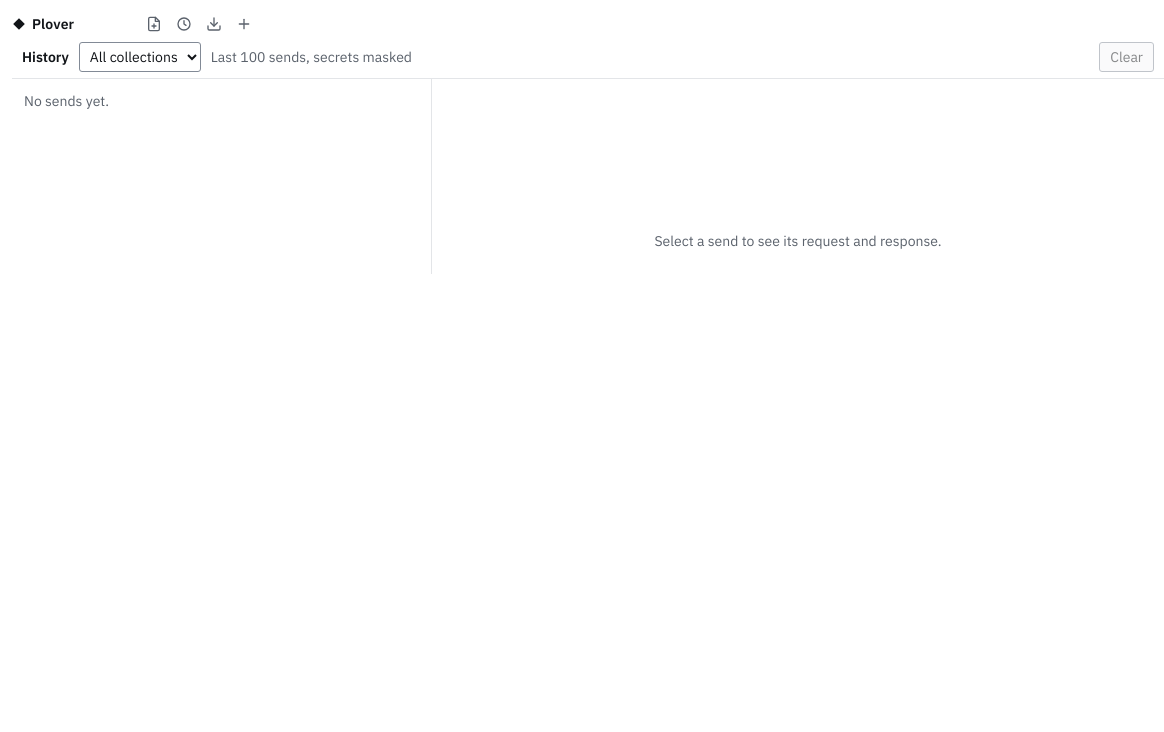
it: history tab › open_as_new_request_creates_scratch_with_banner
Click the button named "History": (184,24) [172, 12, 196, 36]
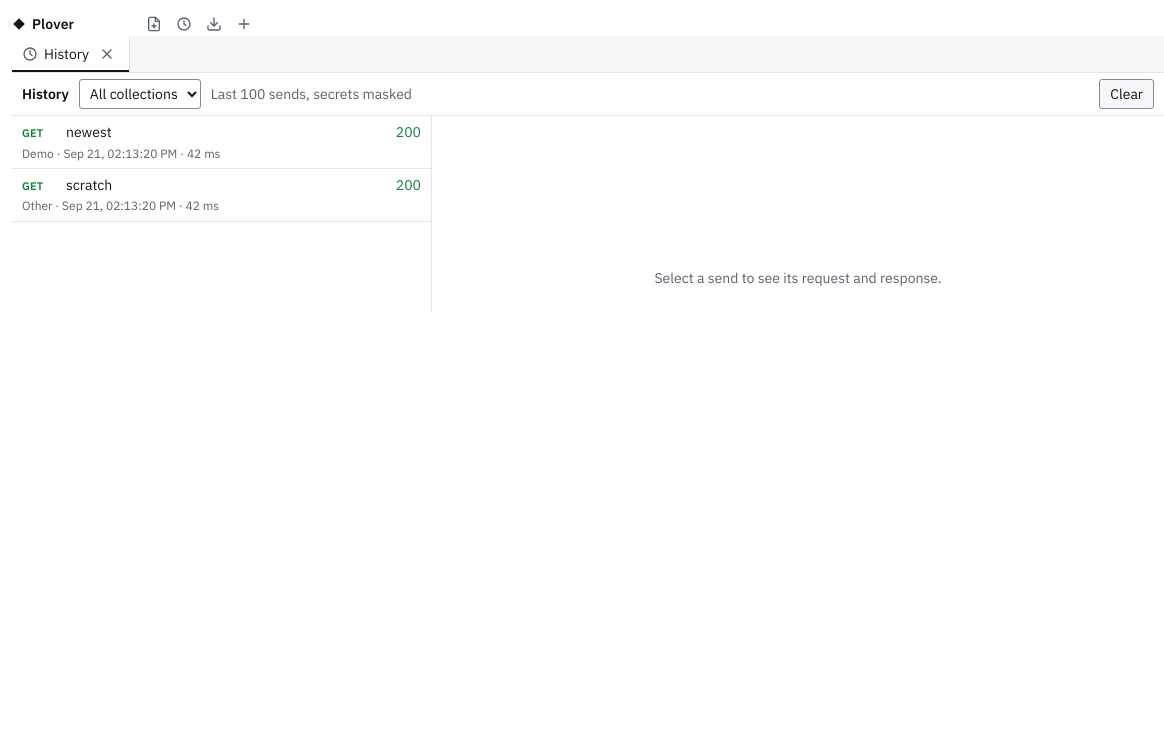
Click the option "GET newest 200 Demo · Sep 21, 02:13:20 PM · 42 ms": (222,143) [12, 116, 431, 169]
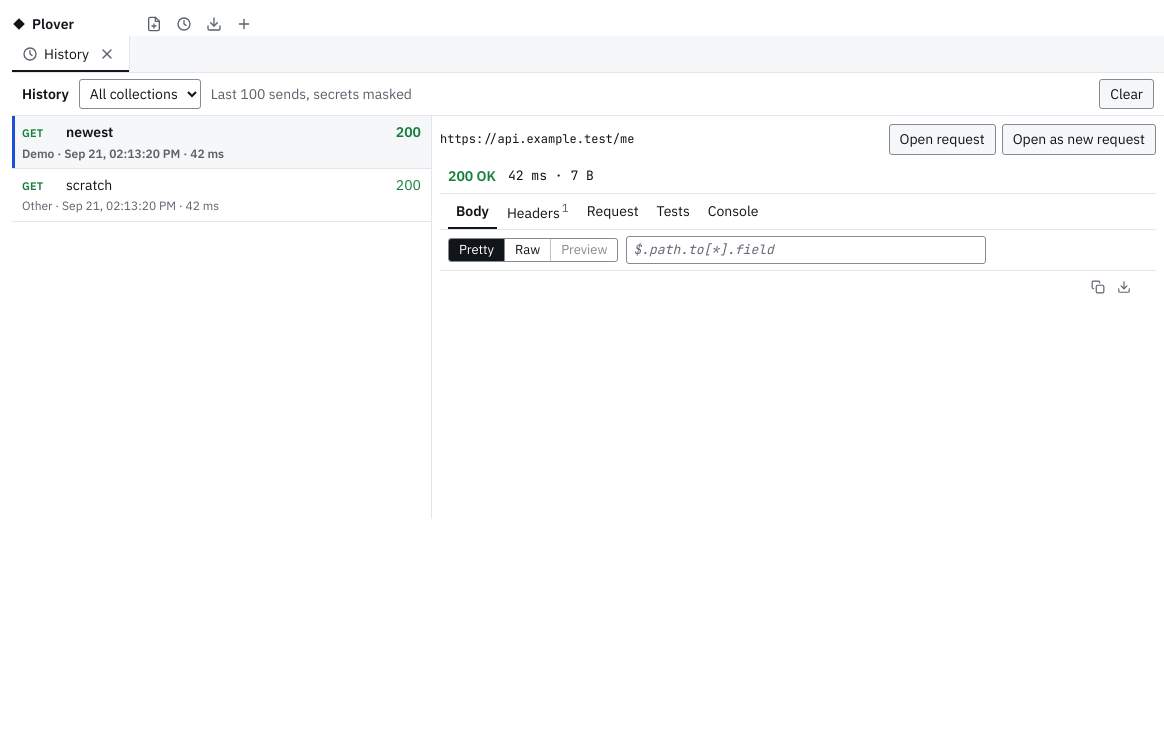
Click the button "Open as new request": (1079,139) [1002, 124, 1156, 155]
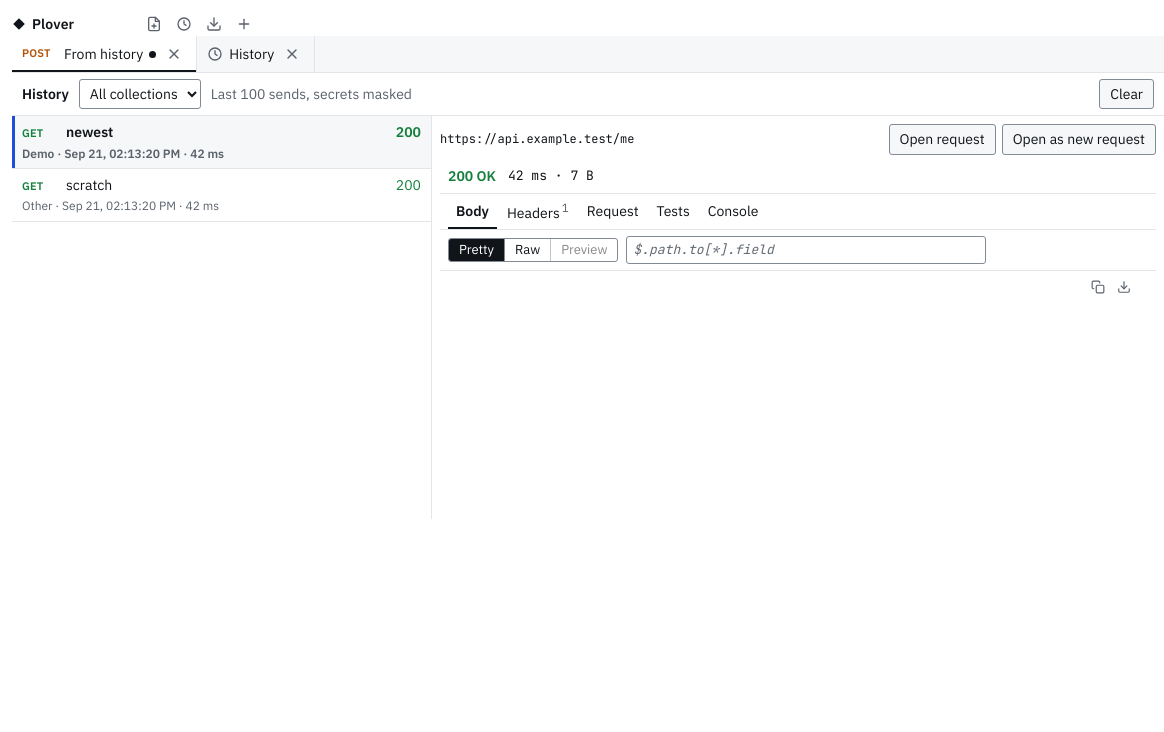
expect the text "POST" is shown: met, box [22, 46, 51, 60]
